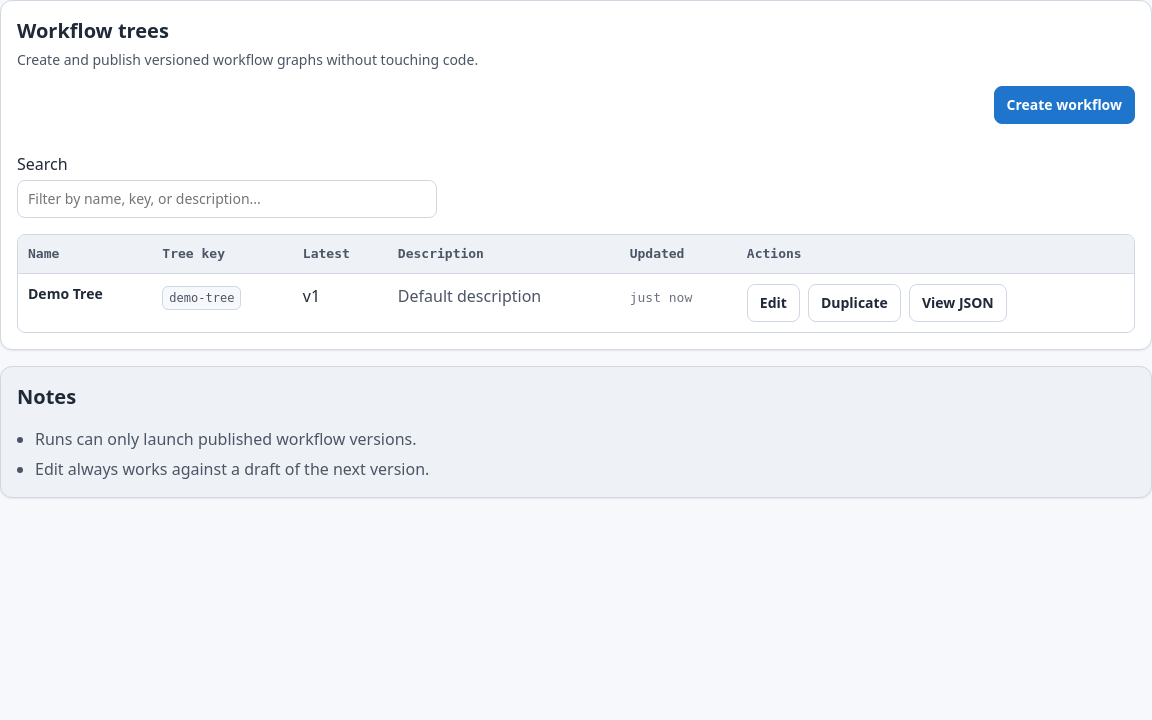
Scenario: WorkflowsPageContent › closes the duplicate dialog via backdrop or cancel
The width and height of the screenshot is (1152, 720).
Click the button "Duplicate". click: (854, 303)
box: x1=808 y1=284 x2=901 y2=322
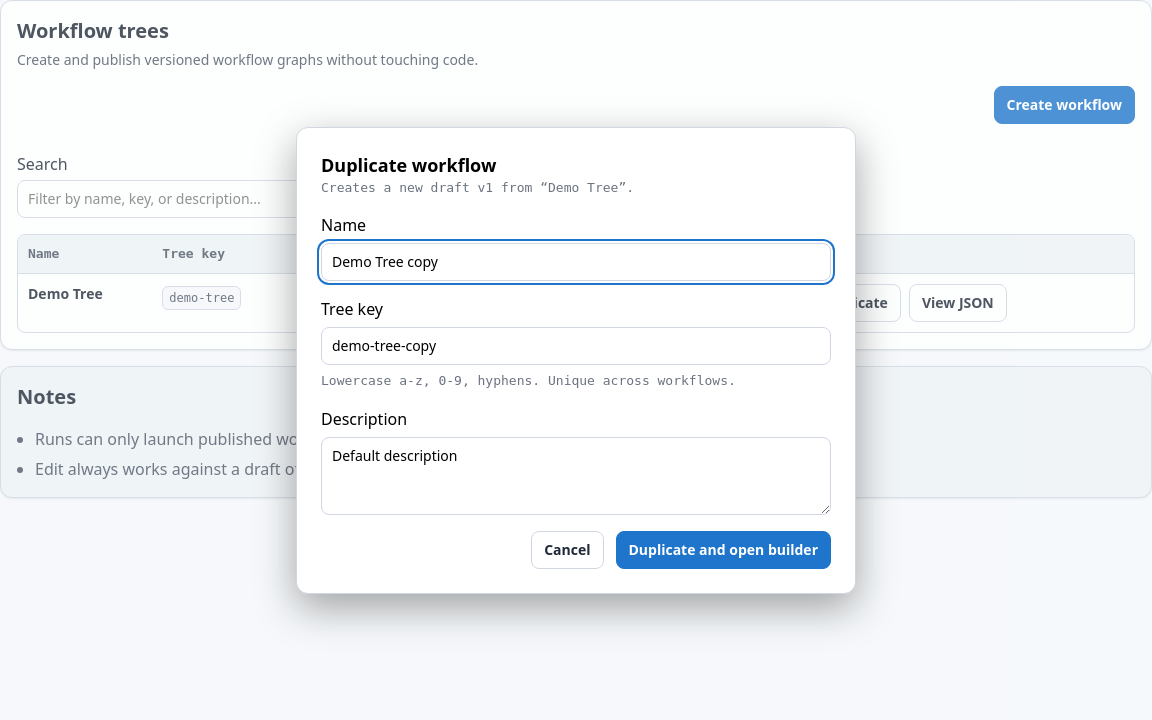
Now the dialog "Duplicate workflow" is shown, box x1=296 y1=126 x2=856 y2=594
Press the mouse on the heading "Duplicate workflow" at (409, 164), box x1=321 y1=152 x2=496 y2=176
Now the dialog "Duplicate workflow" is shown, box x1=296 y1=126 x2=856 y2=594
Click the button named "Close duplicate workflow dialog". click: (69, 360)
box: x1=0 y1=0 x2=1151 y2=719
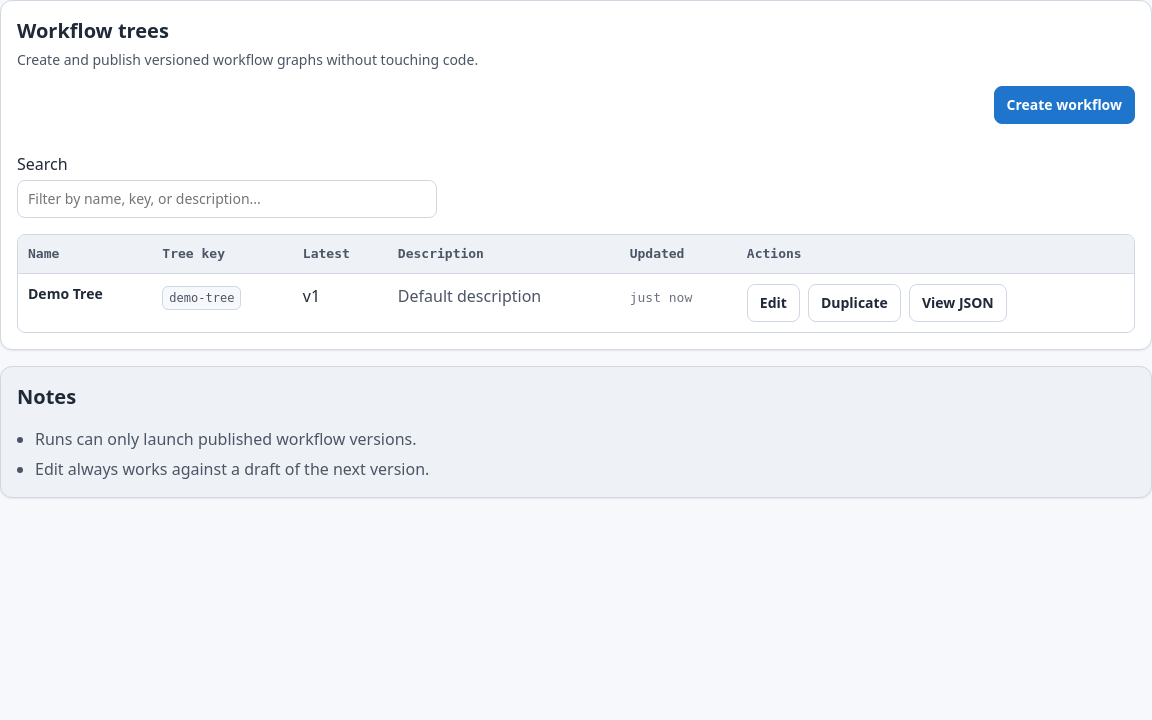
Now the heading "Duplicate workflow" is gone
Click the button "Duplicate". click: (854, 303)
box: x1=808 y1=284 x2=901 y2=322
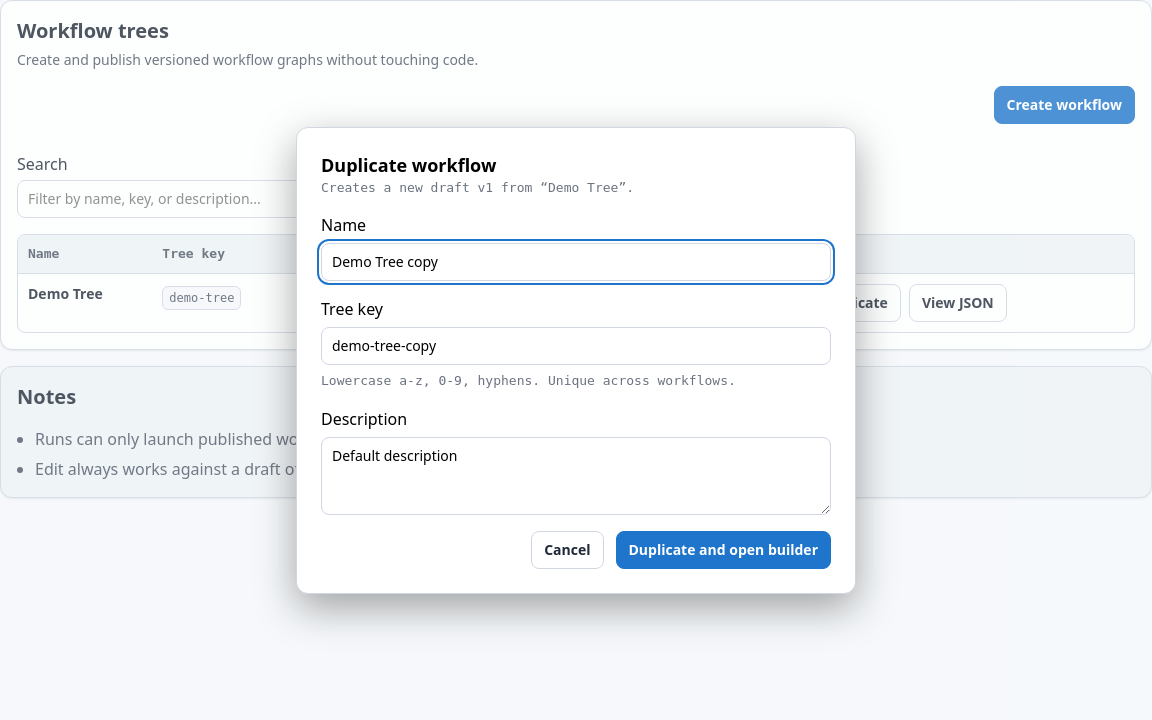
Click the button "Cancel". click: (567, 550)
box: x1=531 y1=530 x2=604 y2=568
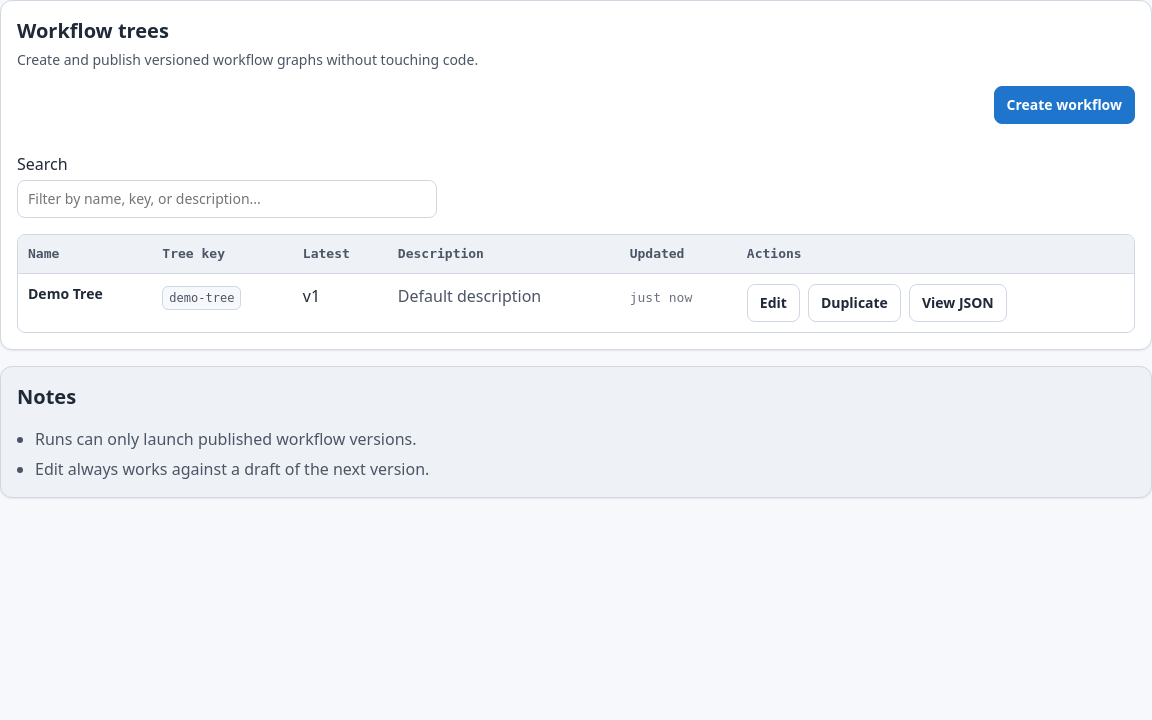
Now the heading "Duplicate workflow" is gone
